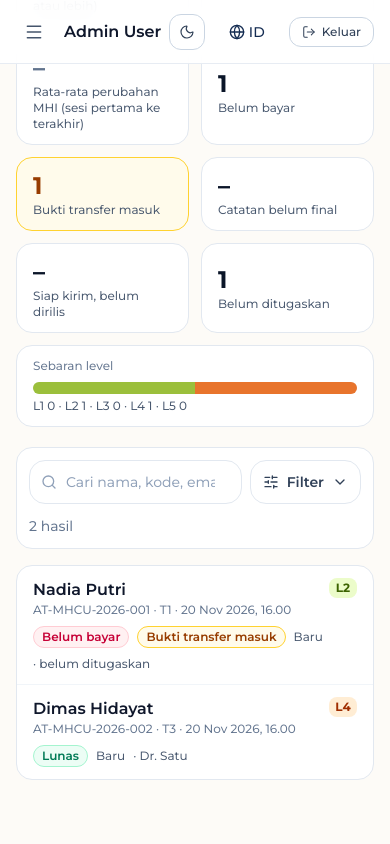
Test: MHCU dashboard › tells in the detail panel when the proof was sent and what the person chose
The width and height of the screenshot is (390, 844).
(page scrolled)
Click the button "Nadia Putri": (195, 625) [17,566,373,684]
(page scrolled)
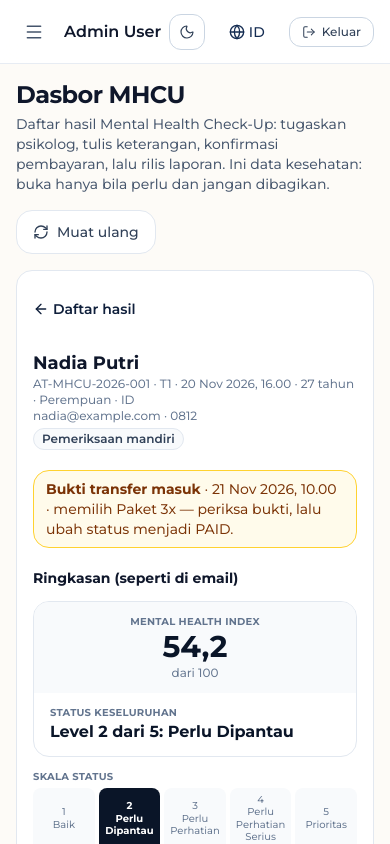
Expected: the heading "Nadia Putri" is shown, [33,352,139,374]
Result: the message shows "memilih Paket 3x" at [53,500,176,518]
Result: the message shows "ubah status menjadi paid" at [46,500,321,538]
